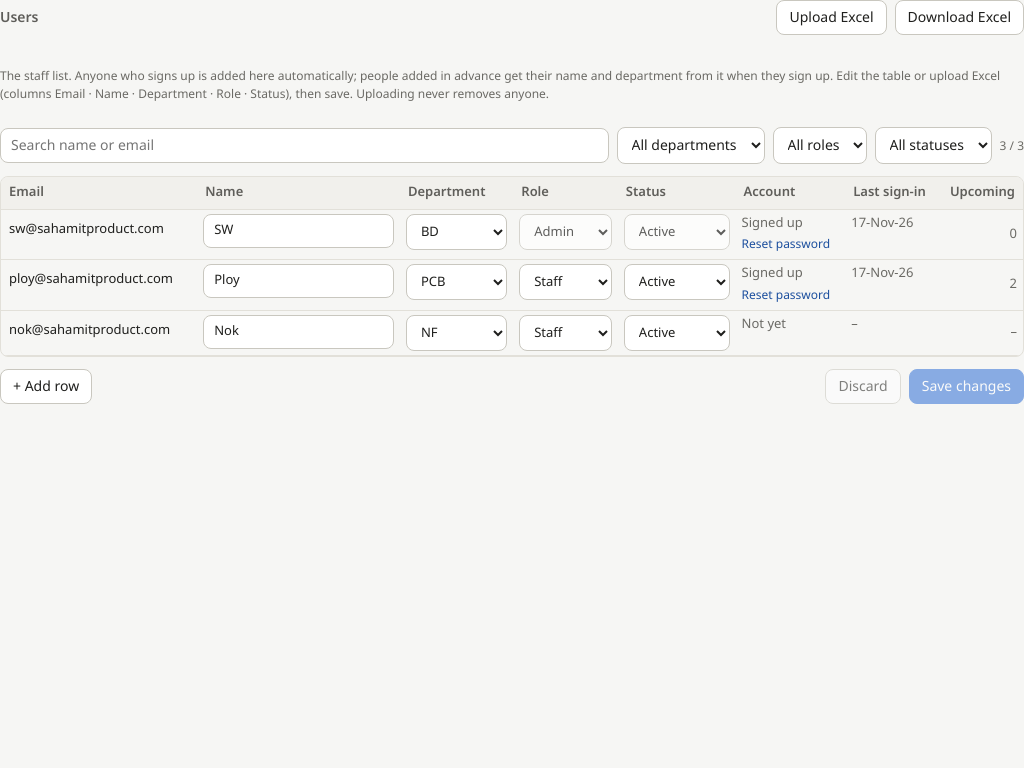
Scenario: UserTable › an admin resets someone's password and sees the temporary one to pass on
The image size is (1024, 768).
Expected: the field showing "Ploy" next to "ploy@sahamitproduct.com" is shown, [203,264,394,298]
Click the button "Reset password" in the row of "ploy@sahamitproduct.com": {"x": 786, "y": 294} [742,284,830,306]
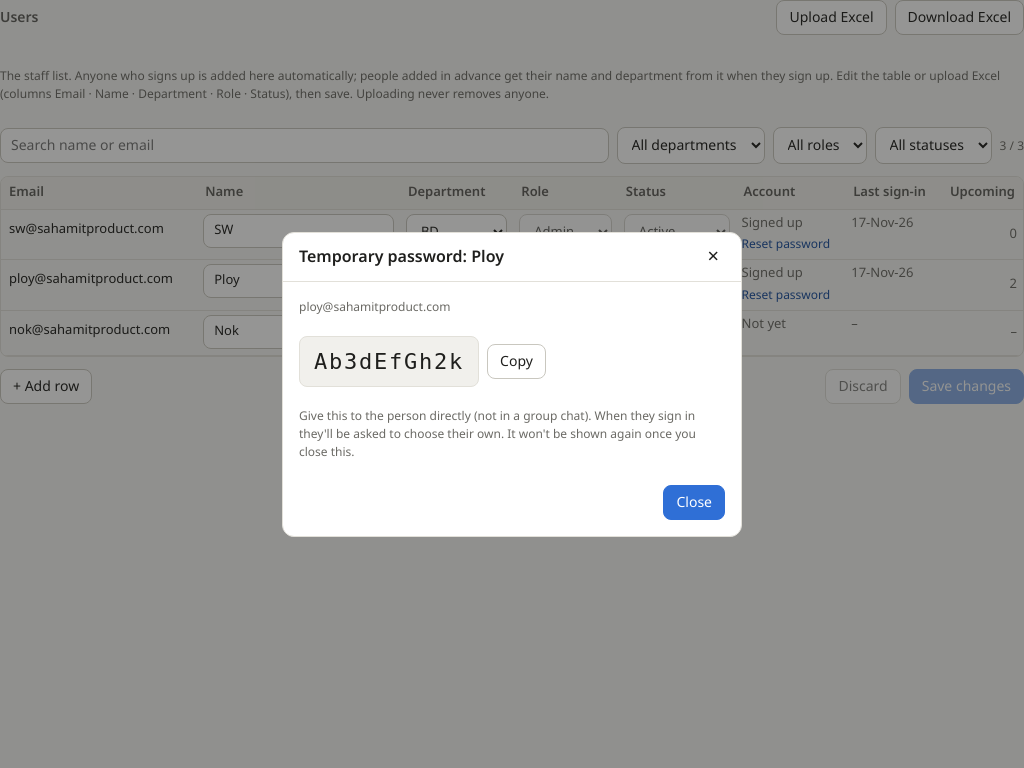
Expected: the text "Ab3dEfGh2k" is shown, [299,336,479,386]
